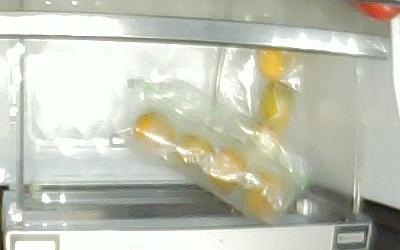tangerine_vinyl: (246, 167, 286, 214), (261, 80, 294, 131), (209, 148, 246, 190), (135, 112, 173, 148), (175, 134, 212, 165), (254, 51, 291, 79)
